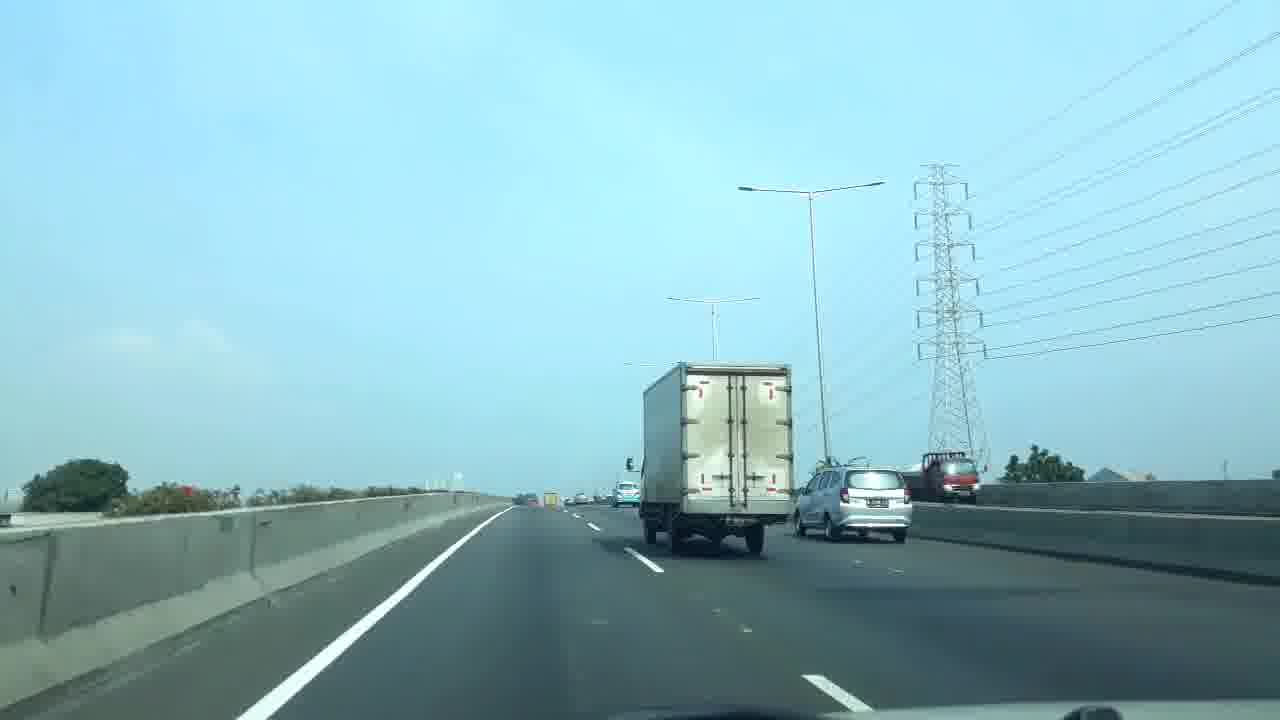plate_positive: (865, 498, 889, 507)
